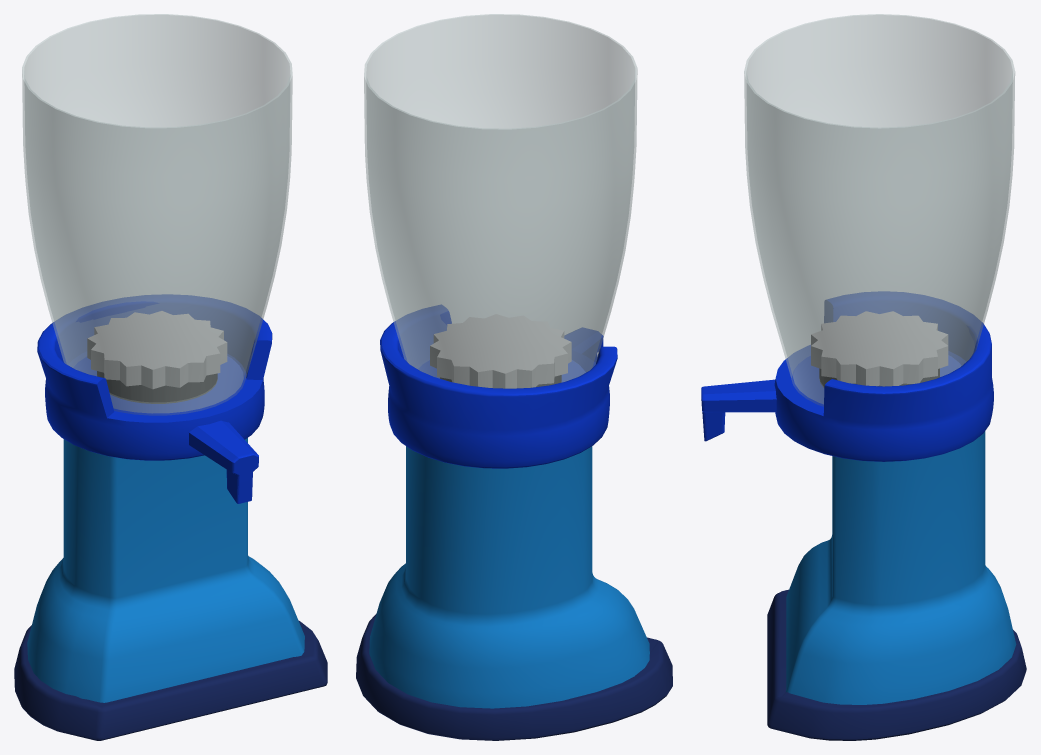
The model's file is blender.fbx.
3 views of the same model, side by side, from view 1: azimuth 30°, elevation 25°; view 2: azimuth 150°, elevation 25°; view 3: azimuth 270°, elevation 25° (orthographic).
Visible parts, largest first — view 1: Cylinder.002; view 2: Cylinder.002; view 3: Cylinder.002.
Part boxes in pixels (x1,y1,x2,y2): Cylinder.002: [14, 14, 327, 740]; Cylinder.002: [356, 14, 672, 740]; Cylinder.002: [701, 14, 1026, 740].
Bounding box in the file's own units: 187 × 384 × 188.
